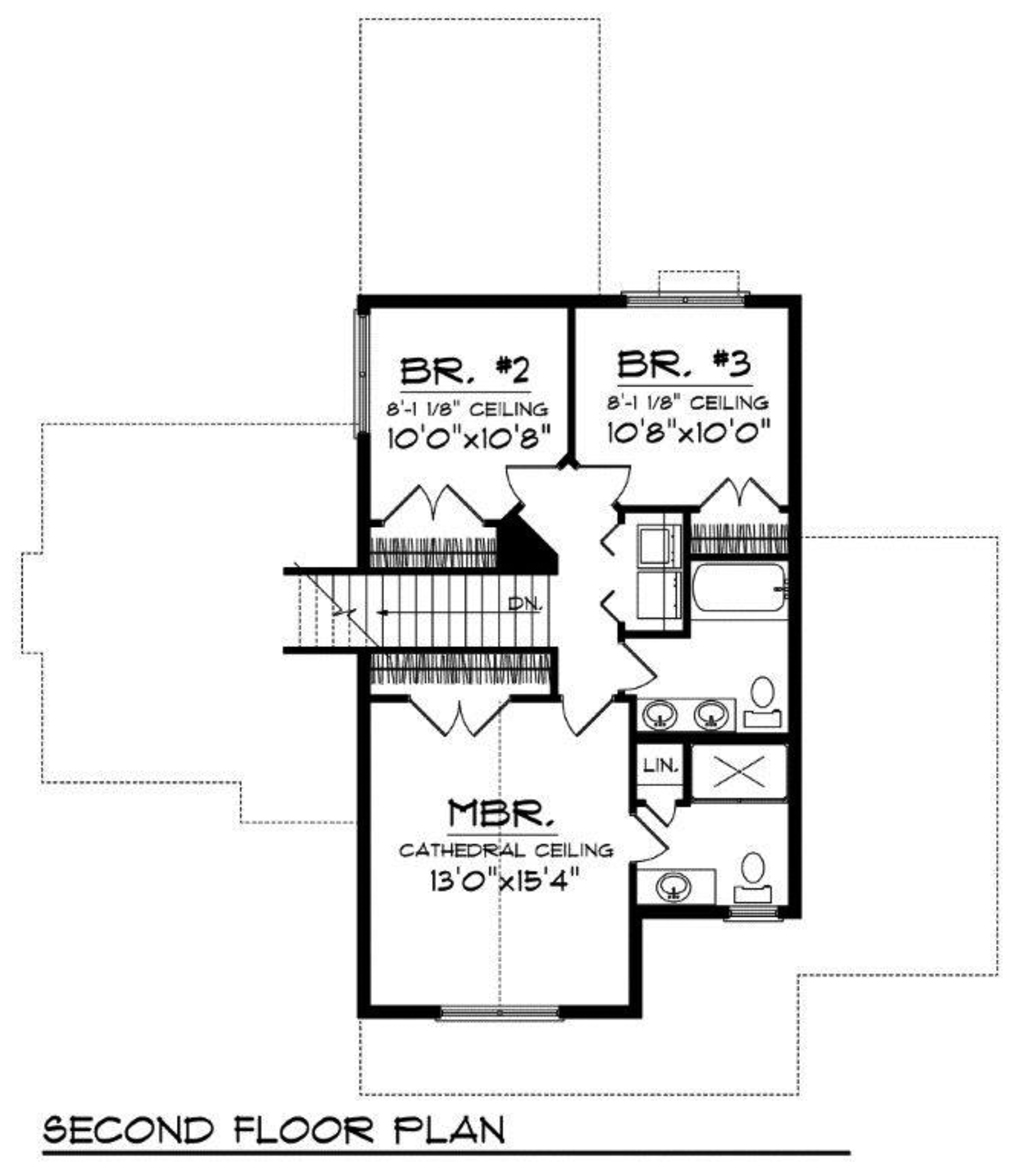door: (387, 479, 483, 527), (414, 700, 514, 740), (696, 470, 789, 513), (560, 695, 621, 740), (616, 636, 660, 688), (635, 815, 680, 865), (507, 459, 553, 506), (640, 782, 678, 837), (583, 468, 639, 499)
large_sink: (730, 852, 780, 918), (737, 659, 782, 725)
small_sink: (651, 866, 701, 906), (641, 697, 687, 732), (696, 695, 732, 734)
stairs: (289, 559, 548, 665)
tub: (687, 559, 791, 620)
window: (630, 293, 748, 311), (353, 311, 369, 429), (444, 1007, 557, 1022)
